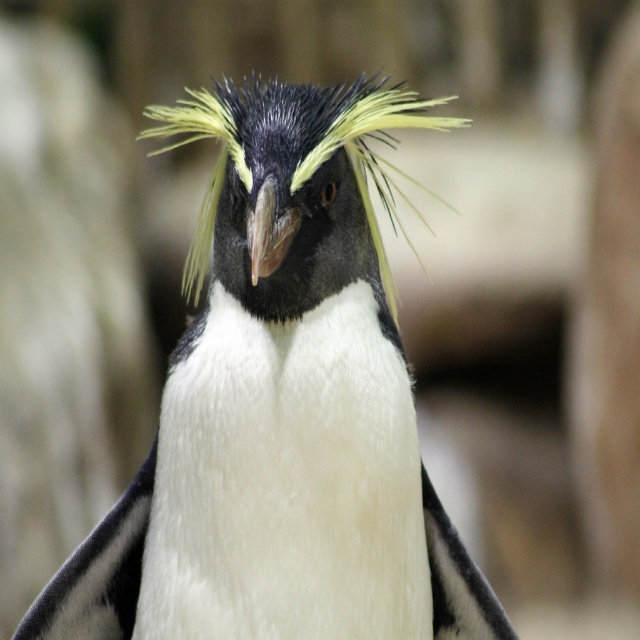Penguin: (11, 67, 522, 639)
